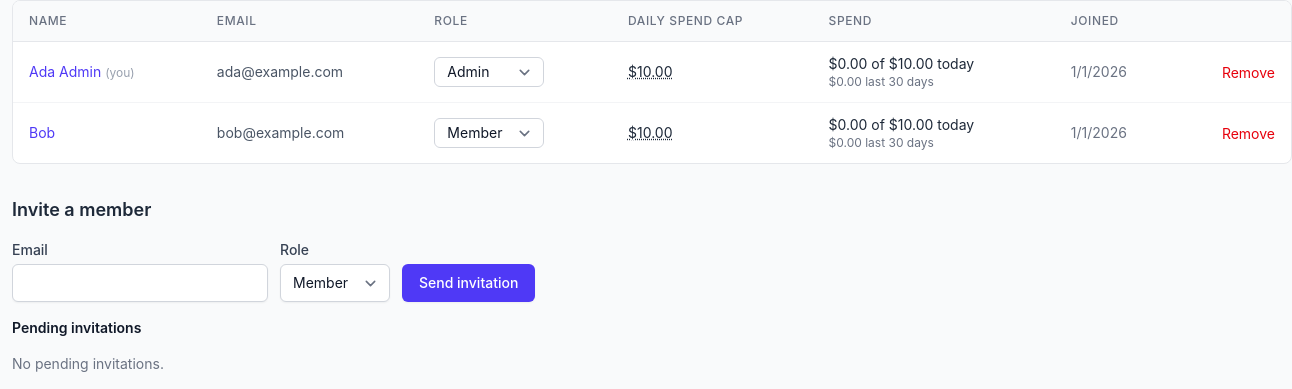
PeopleManager › saves a new daily cap in cents
This screenshot has width=1292, height=389.
Click the button named "Edit daily spend cap for Bob".
click(650, 133)  # box [628,123,672,143]
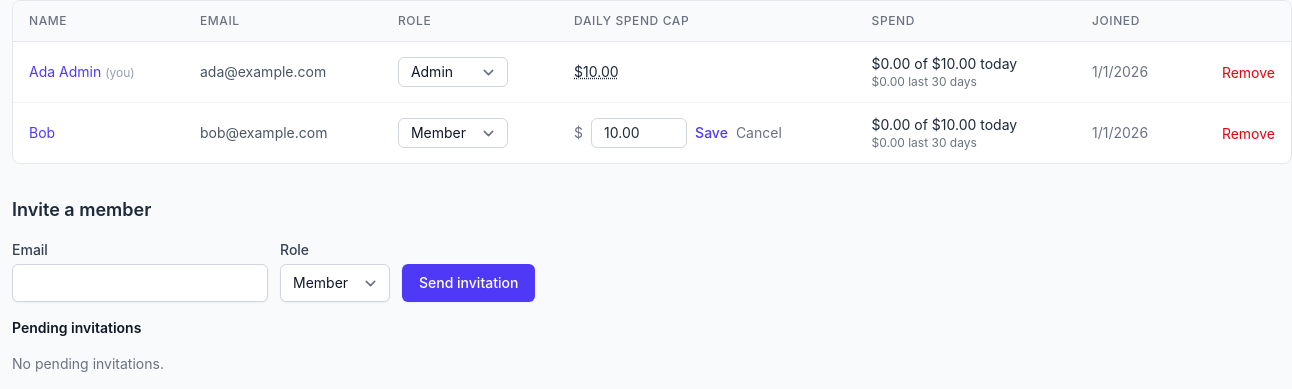
Replace the text in the number field named "Daily spend cap for Bob (USD)" with "25.50" at (639, 133), box [591,118,687,148]
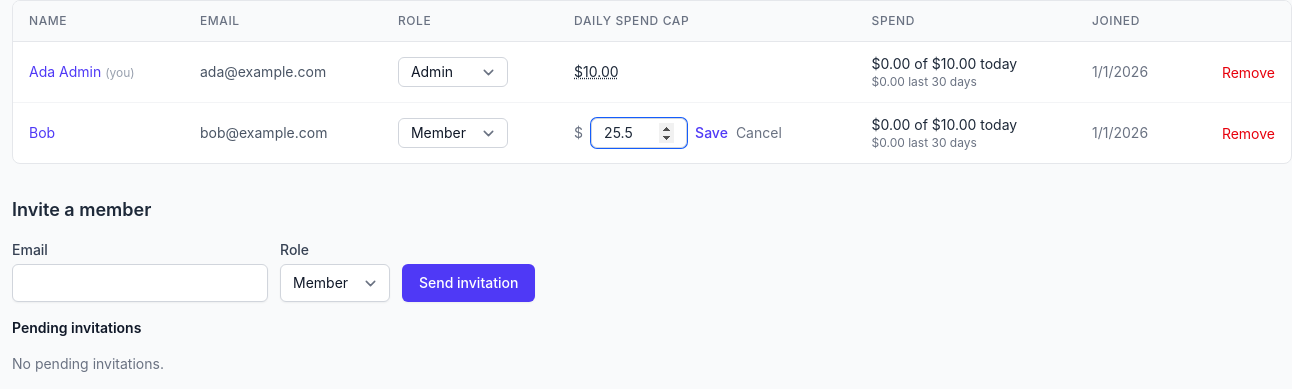
Click the button "Save".
click(712, 133)  # box [695,123,728,143]
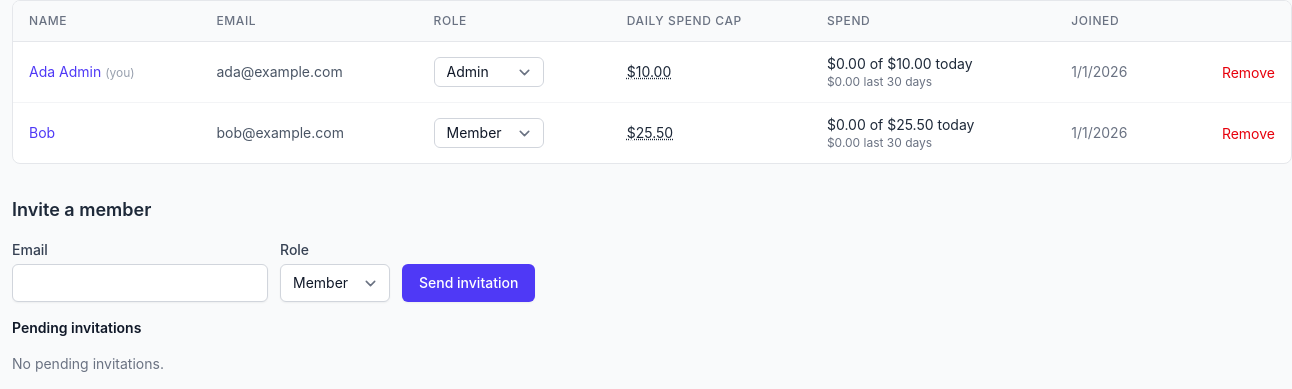
Now the button "$25.50" is shown, box [627,123,673,143]
